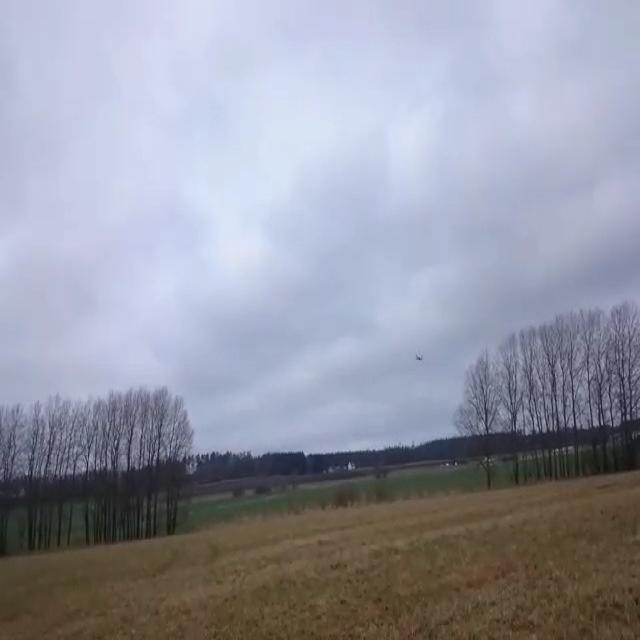drone: (415, 352, 424, 362)
